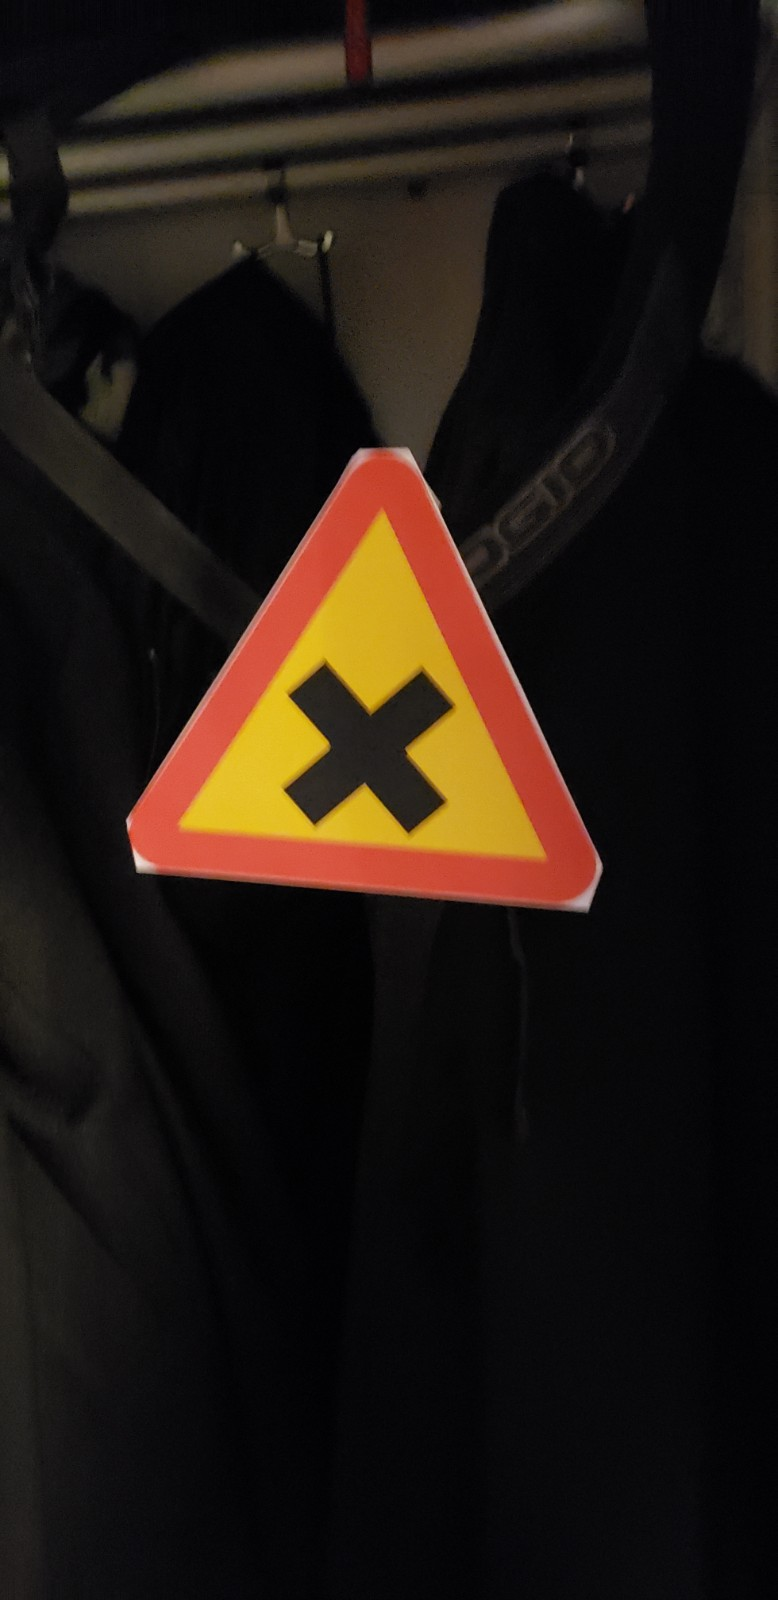junction: (95, 362, 659, 989)
